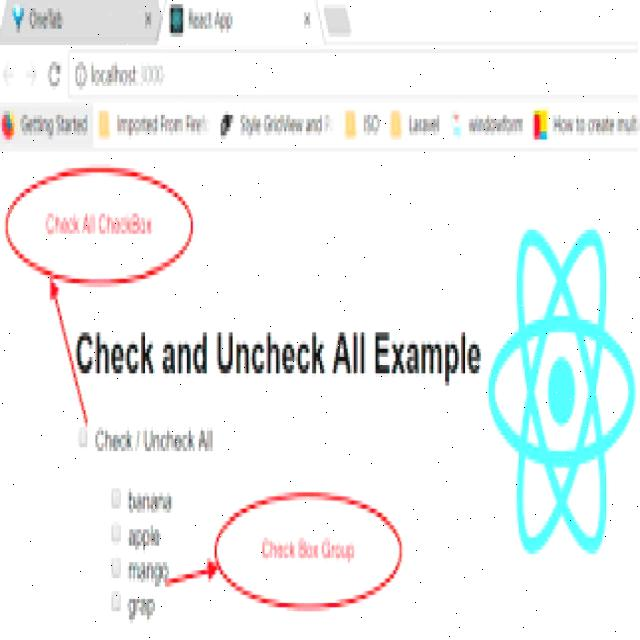button: (44, 59, 64, 88), (20, 60, 40, 87), (73, 60, 90, 90), (0, 55, 14, 88)
checkbox: (112, 556, 123, 579), (110, 488, 122, 509), (110, 522, 122, 542), (78, 427, 89, 447), (112, 590, 122, 611)
input: (94, 52, 639, 93)
label: (69, 326, 485, 382), (92, 422, 224, 462), (39, 202, 160, 242), (256, 532, 366, 567), (125, 488, 181, 516), (126, 556, 178, 586), (126, 520, 178, 549), (124, 592, 164, 624)
menu: (96, 103, 210, 147), (215, 106, 337, 143), (534, 102, 640, 144), (0, 106, 89, 146), (450, 111, 531, 139), (340, 103, 387, 143), (390, 111, 448, 141)
tabControl: (160, 0, 322, 50), (0, 0, 160, 46), (324, 1, 358, 46)
